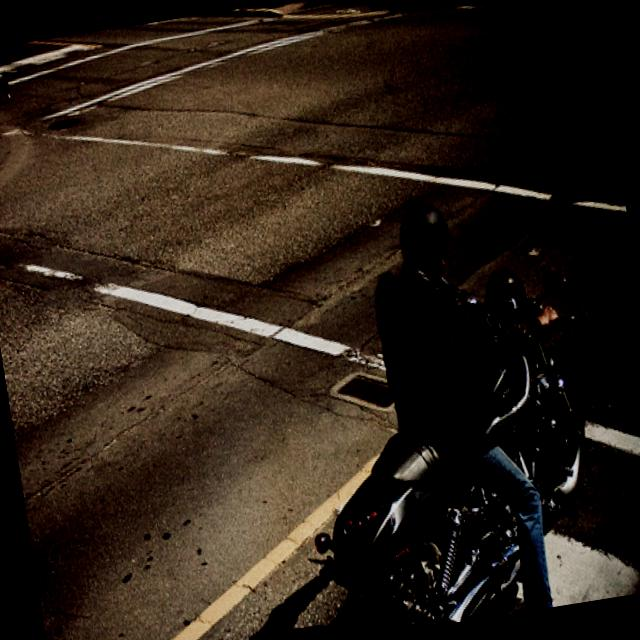Vehicle: (275, 260, 617, 640)
